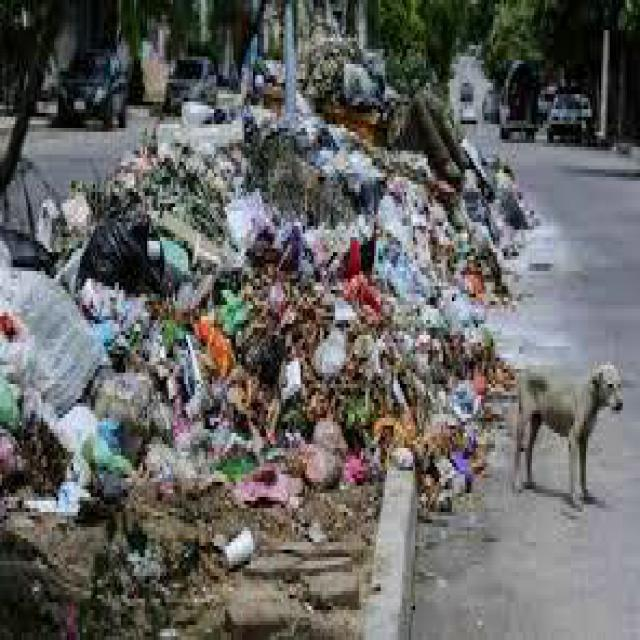garbage: (4, 143, 517, 561), (203, 0, 465, 173)
